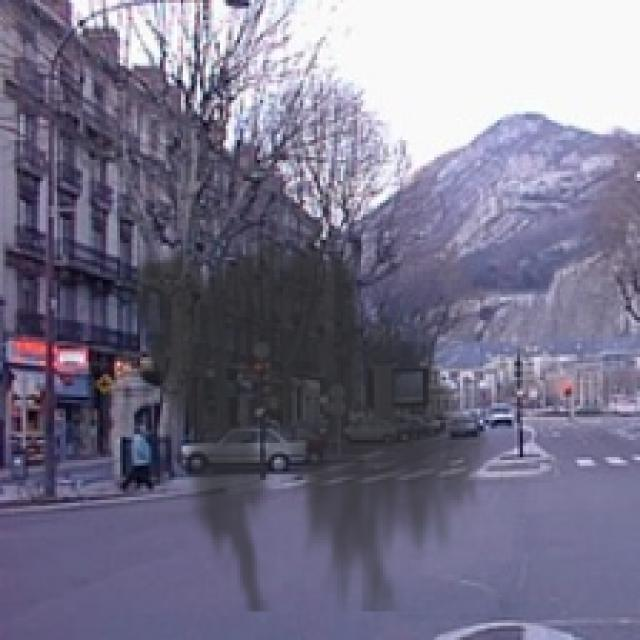smoke: (109, 217, 500, 612)
